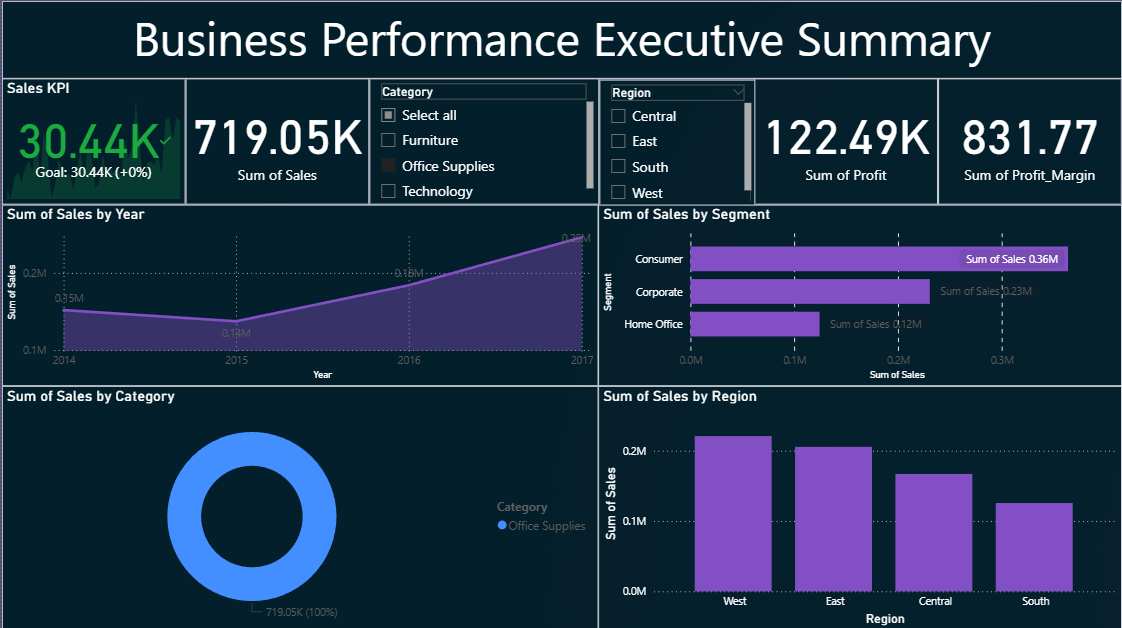

What the dashboard file says about the page in this screenshot:
{"tool":"powerbi","page":{"name":"Page 1","canvas":[1280,720],"ordinal":0},"visuals":[{"type":"lineChart","fields":{"Category":["Superstore_clean.MonthYear.Variation.Date Hierarchy.Year","Superstore_clean.MonthYear.Variation.Date Hierarchy.Quarter","Superstore_clean.MonthYear.Variation.Date Hierarchy.Month","Superstore_clean.MonthYear.Variation.Date Hierarchy.Day"],"Y":["Sum(Superstore_clean.Sales)"]},"box":[0,233.3,682,207.2],"z":0},{"type":"clusteredColumnChart","fields":{"Category":["Superstore_clean.Region"],"Y":["Sum(Superstore_clean.Sales)"]},"box":[682,440.5,598.3,279.9],"z":1000},{"type":"donutChart","fields":{"Category":["Superstore_clean.Category"],"Y":["Sum(Superstore_clean.Sales)"]},"box":[0,440.5,682,279.9],"z":2000},{"type":"kpi","title":"Sales KPI","fields":{"Indicator":["Sum(Superstore_clean.Sales)"],"TrendLine":["Superstore_clean.YearMonth"],"Goal":["Sum(Superstore_clean.Sales)"]},"box":[0,89.2,209.9,144.1],"z":3000},{"type":"slicer","fields":{"Values":["Superstore_clean.Region"]},"box":[682.9,89.6,179.1,144.3],"z":4000},{"type":"slicer","fields":{"Values":["Superstore_clean.Category"]},"box":[419.9,89.2,262.1,144.1],"z":5000},{"type":"card","fields":{"Values":["Sum(Superstore_clean.Sales)"]},"box":[209.9,89.2,209.9,144.1],"z":6000},{"type":"card","fields":{"Values":["Sum(Superstore_clean.Profit)"]},"box":[860.4,89.2,209.9,144.1],"z":7000},{"type":"card","fields":{"Values":["Sum(Superstore_clean.Profit_Margin)"]},"box":[1070.3,89.2,209.9,144.1],"z":8000},{"type":"clusteredBarChart","fields":{"Category":["Superstore_clean.Segment"],"Y":["Sum(Superstore_clean.Sales)"]},"box":[682,233.3,598.3,207.2],"z":9000},{"type":"textbox","box":[0,0,1280.3,89.2],"z":10000}]}

Visuals, with their boxes in screenshot pixels (x1, y1, x2, y2), scaled from the page's 1280x720 canvas onto the 1122x628 screenshot:
lineChart - Superstore_clean.MonthYear.Variation.Date Hierarchy.Year x Superstore_clean.MonthYear.Variation.Date Hierarchy.Quarter: [left=0, top=203, right=598, bottom=384]
clusteredColumnChart - Superstore_clean.Region x Sum(Superstore_clean.Sales): [left=598, top=384, right=1121, bottom=627]
donutChart - Superstore_clean.Category x Sum(Superstore_clean.Sales): [left=0, top=384, right=598, bottom=627]
"Sales KPI" kpi: [left=0, top=78, right=184, bottom=203]
slicer - Superstore_clean.Region: [left=599, top=78, right=756, bottom=204]
slicer - Superstore_clean.Category: [left=368, top=78, right=598, bottom=203]
card - Sum(Superstore_clean.Sales): [left=184, top=78, right=368, bottom=203]
card - Sum(Superstore_clean.Profit): [left=754, top=78, right=938, bottom=203]
card - Sum(Superstore_clean.Profit_Margin): [left=938, top=78, right=1121, bottom=203]
clusteredBarChart - Superstore_clean.Segment x Sum(Superstore_clean.Sales): [left=598, top=203, right=1121, bottom=384]
textbox: [left=0, top=0, right=1121, bottom=78]
